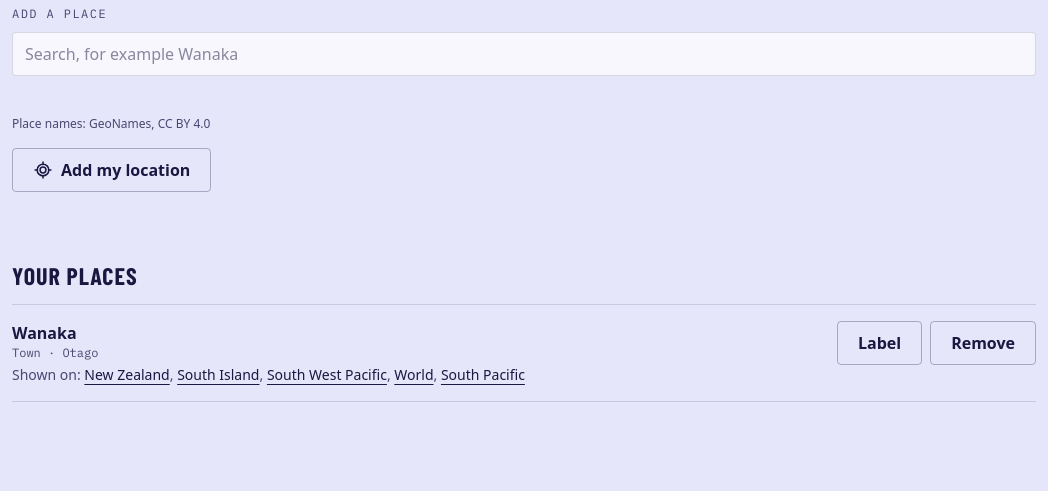
Test: <PinsPage /> › labelling › cancels with Escape
This screenshot has width=1048, height=491.
Click the button with aria-label "Label Wanaka". click: (880, 343)
box: [837,321,922,365]
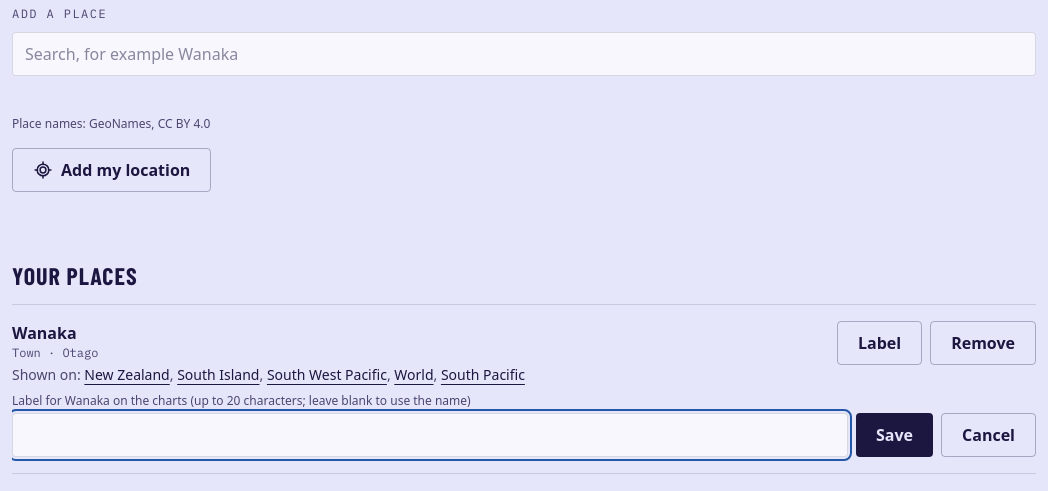
Type "Other" into the field labelled "Label for Wanaka on the charts". click: (430, 435)
box: [12,413,848,457]
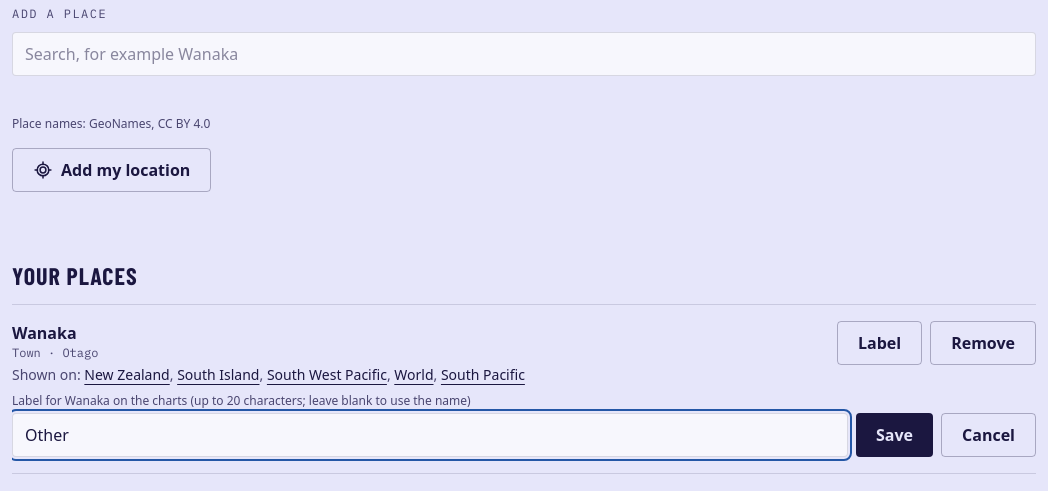
Press Escape in the field labelled "Label for Wanaka on the charts", box [12,413,848,457]
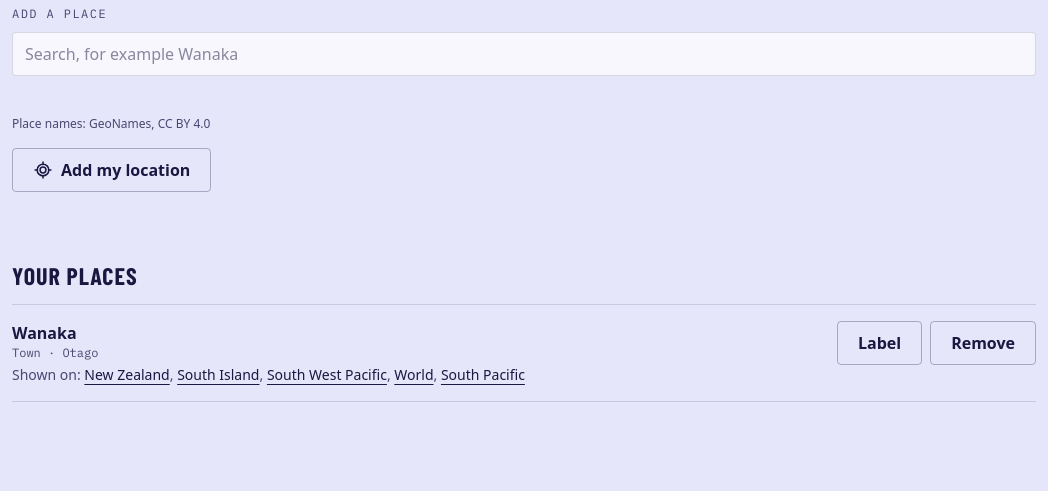
Expected: the label labelled "Label for Wanaka" is gone
